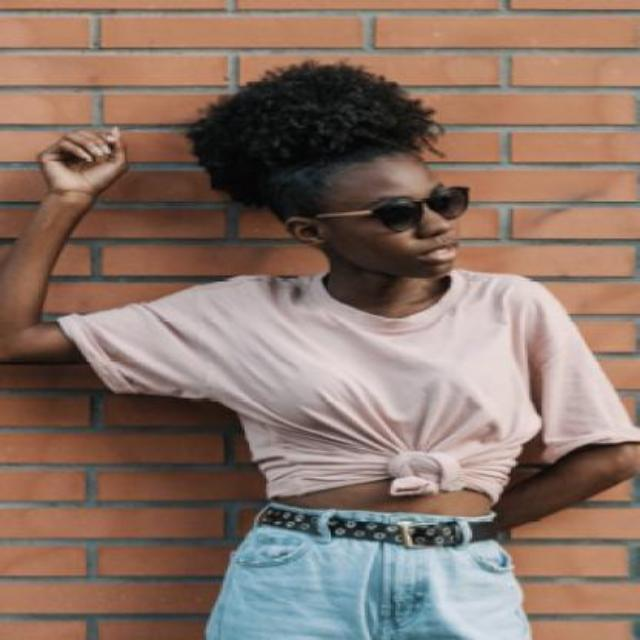sunglasses: (308, 184, 470, 228)
